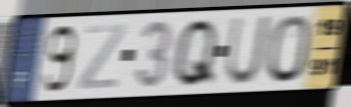3: (134, 18, 173, 92)
9: (42, 23, 78, 95)
O: (266, 12, 314, 85)
Q: (170, 16, 220, 90)
U: (222, 13, 273, 87)
Z: (75, 22, 129, 93)
